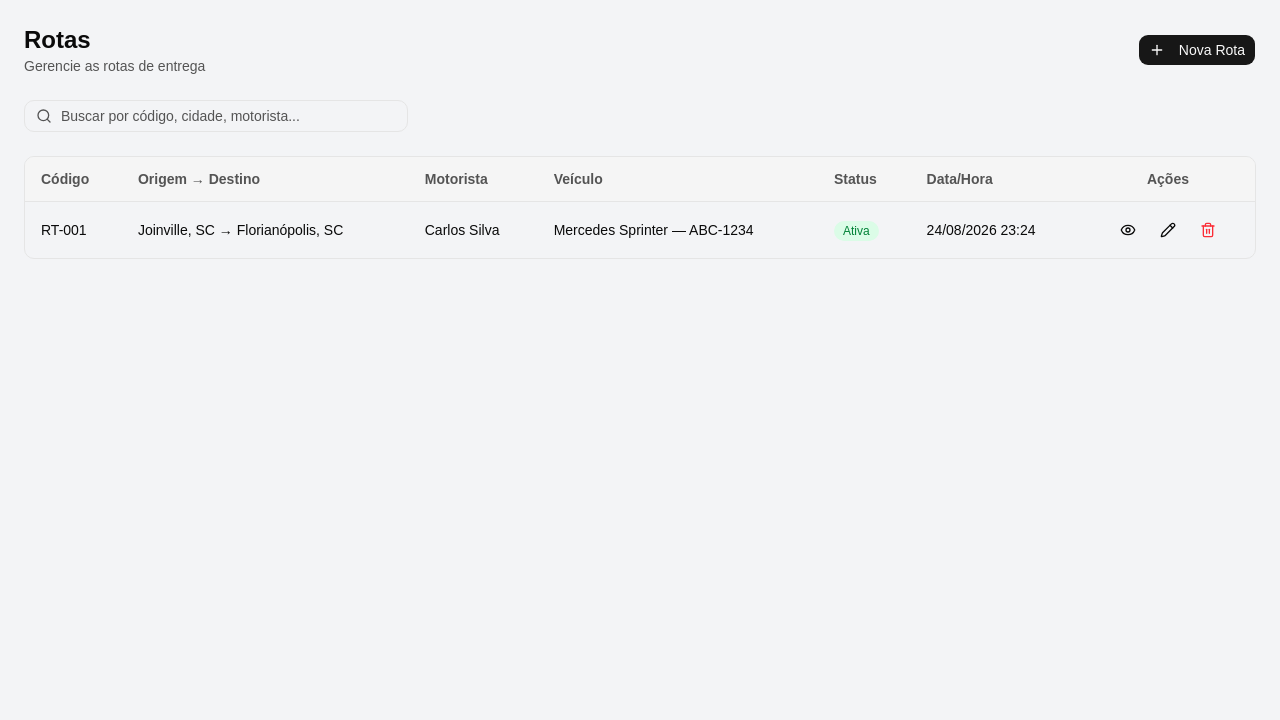
Test: Rotas › edita uma rota existente com sucesso
This screenshot has width=1280, height=720.
Expected: the text "RT-001" is shown, [25,202,122,258]
Click the button named "Editar RT-001": [1168, 230] box [1152,214,1184,246]
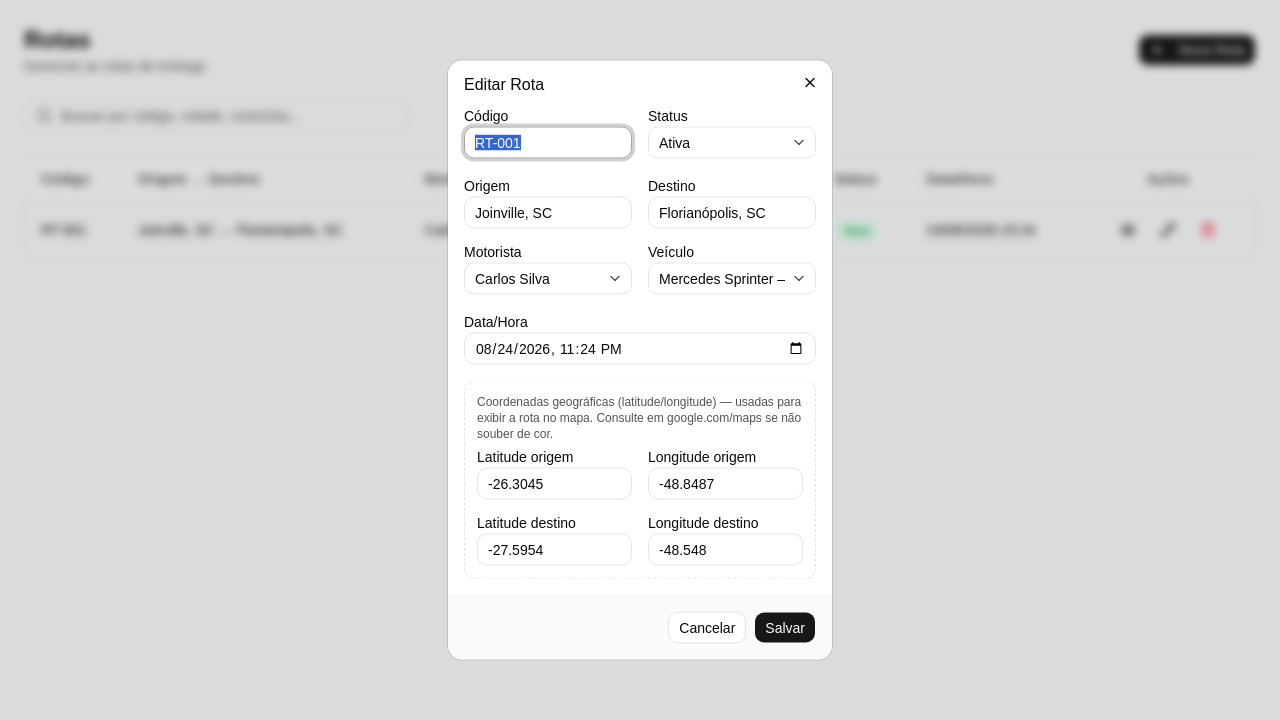
Now the dialog "Editar Rota" is shown, box [448,60,832,660]
In the field showing "RT-001": [548, 142] box [464,126,632,158], type "RT-002"
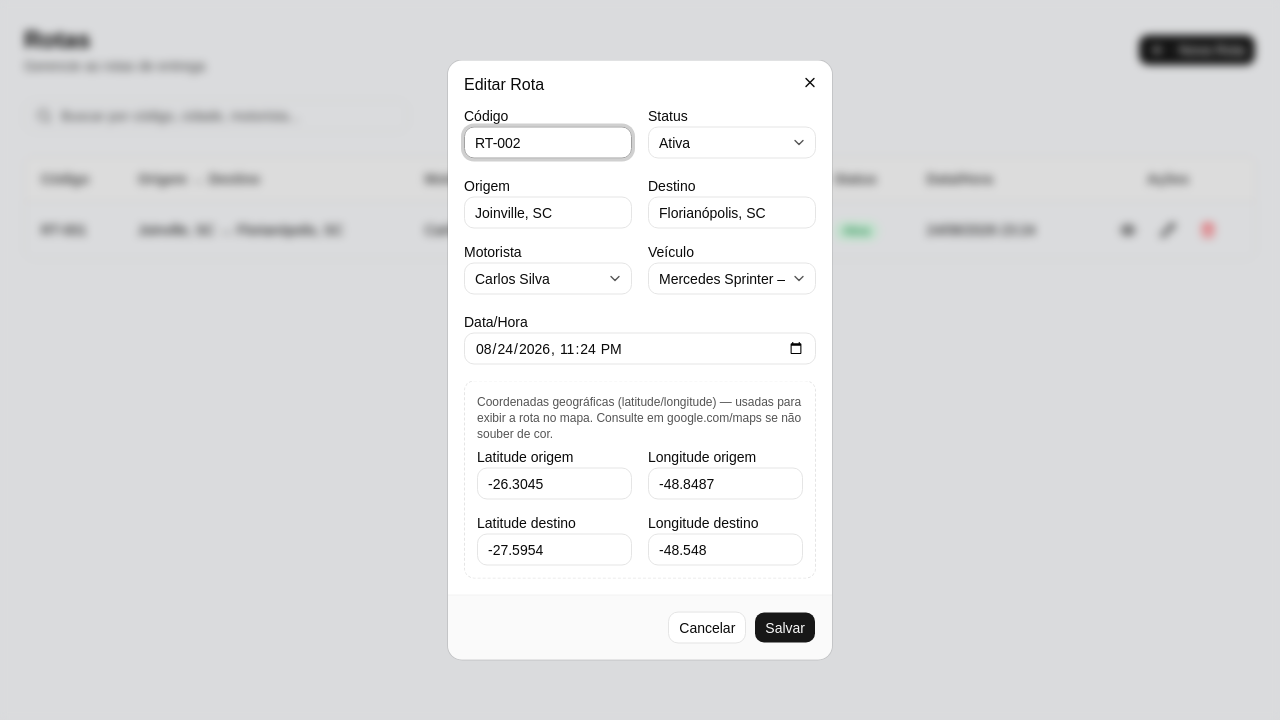
Click the button "Salvar": [785, 628] box [754,612,816,644]
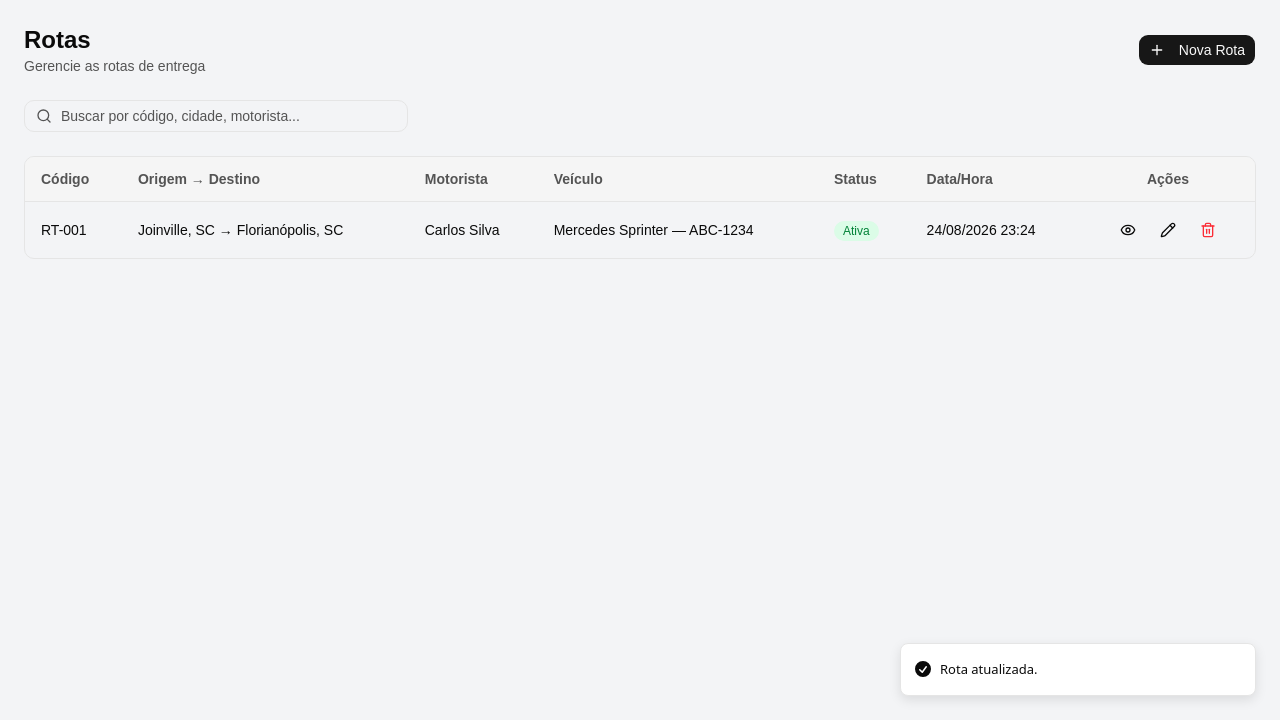
Now the text "Rota atualizada." is shown, box [940,660,1038,679]
